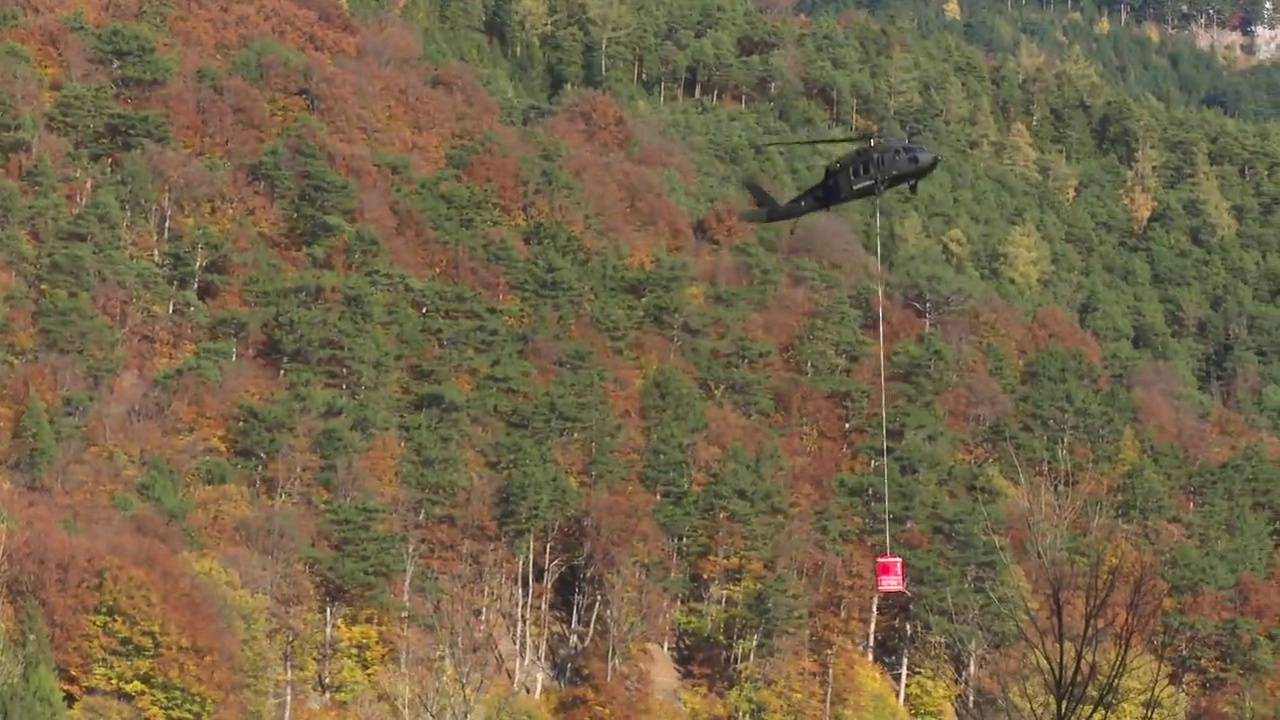heli: (736, 129, 945, 226)
